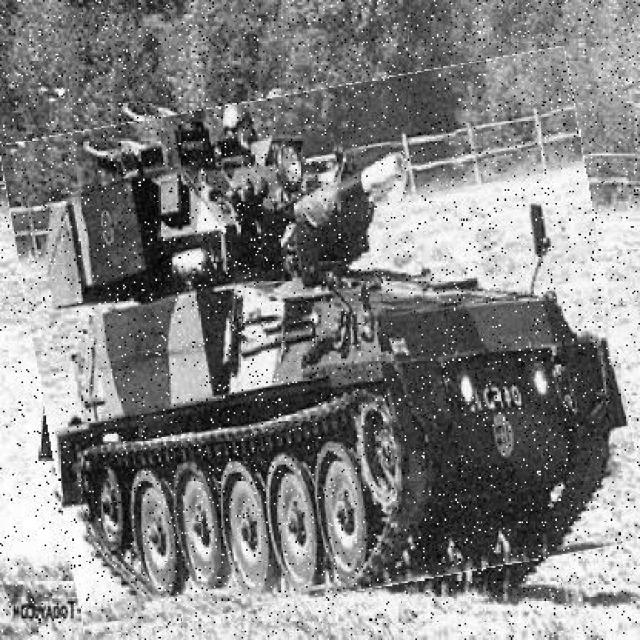Tank: (21, 71, 633, 617)
